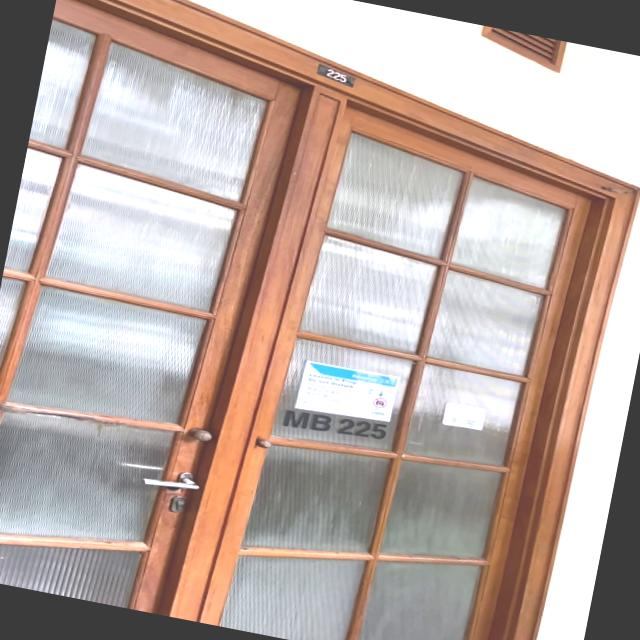room225: (312, 62, 359, 88)
room225Window: (284, 404, 390, 444)
